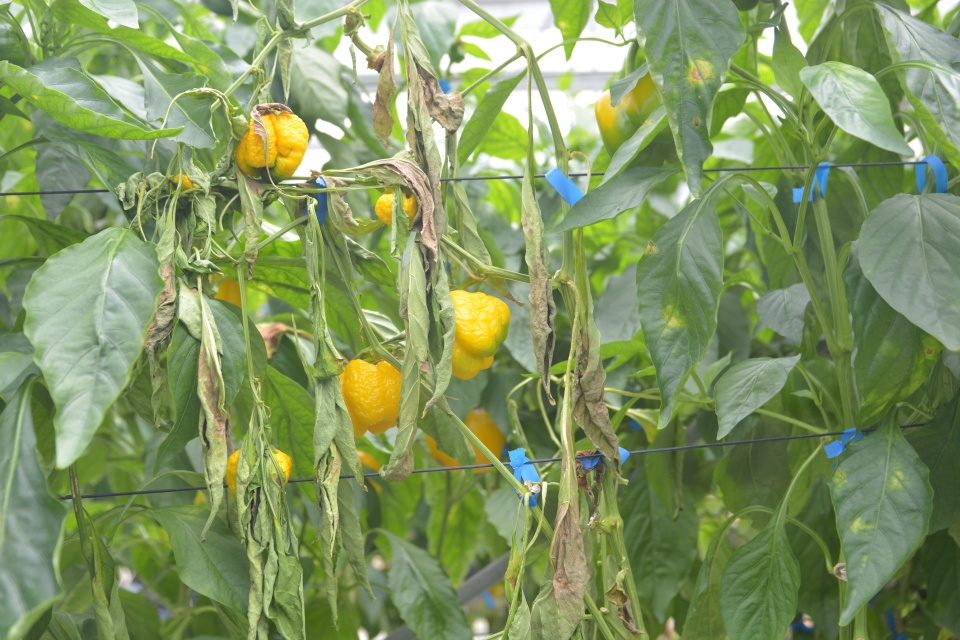fruit: (592, 69, 683, 180), (234, 107, 313, 186), (448, 286, 511, 381), (424, 404, 506, 476), (336, 358, 403, 440), (224, 439, 294, 498), (373, 188, 420, 228)
